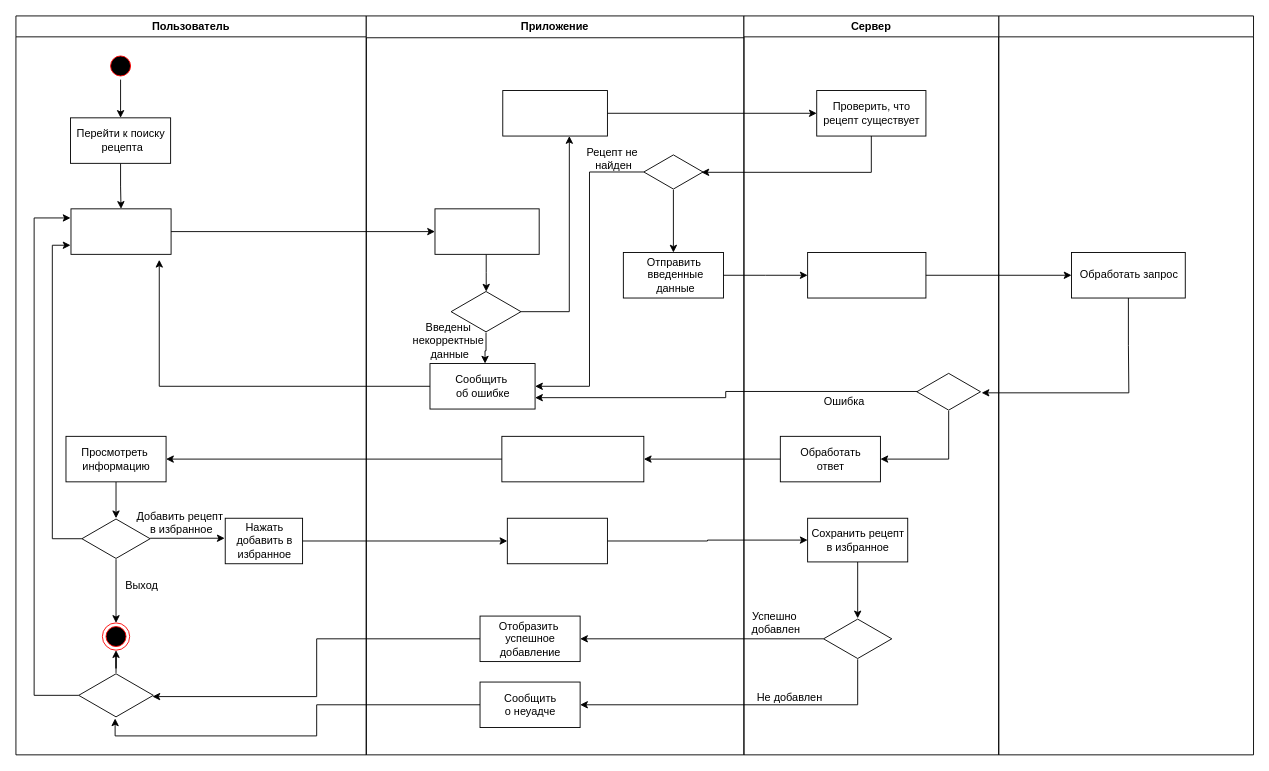
This 1269x771 diagram has some shape labels left out. Each missing label, with the box of its shape:
API: (998, 15, 1254, 755)
Ввести данные в форму поиска: (70, 208, 171, 254)
Отобразить информацию о рецептах: (501, 435, 644, 482)
Отправить данные о запросе: (506, 517, 607, 564)
Отправить данные о рецептах: (502, 90, 607, 136)
Отправить запрос о рецептах: (807, 252, 926, 298)
Проверить введенные данные: (434, 208, 539, 254)
